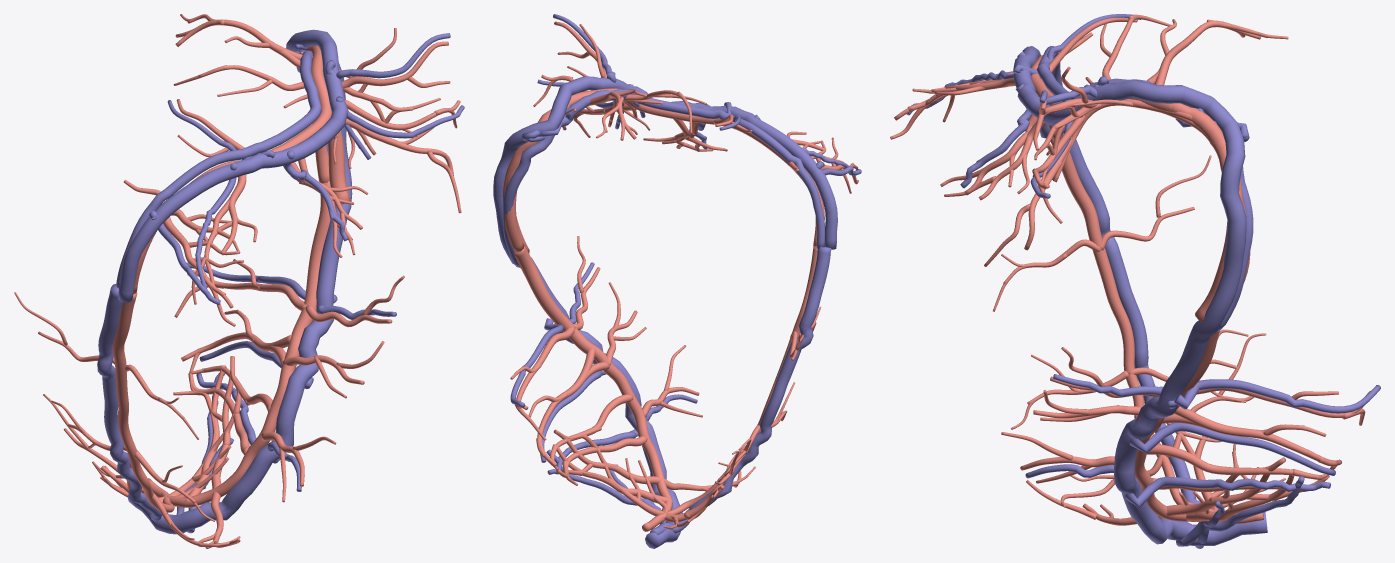
File: vessels_55.glb
3 renders of one model, left to right at view 1: azimuth 30°, elevation 25°; view 2: azimuth 150°, elevation 25°; view 3: azimuth 270°, elevation 25°, orthographic. The views are drawn at different scales.
Parts seen in each view (by area): view 1: Renderer Node; view 2: Renderer Node; view 3: Renderer Node.
Part boxes in pixels (x1,y1,x2,y2): Renderer Node: (14,14,464,548); Renderer Node: (493,14,861,548); Renderer Node: (890,14,1380,548).
Bounding box in the file's own units: 94.77 × 122 × 95.43.
